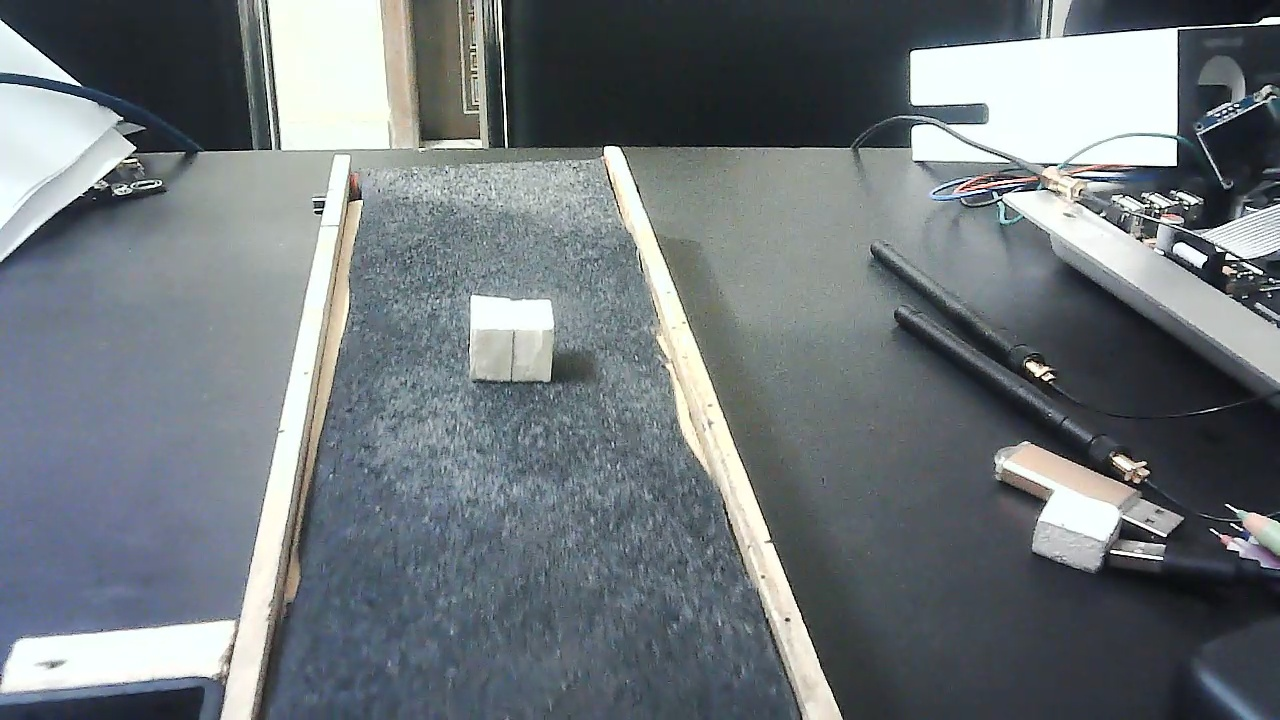Small: (467, 293, 557, 383)
